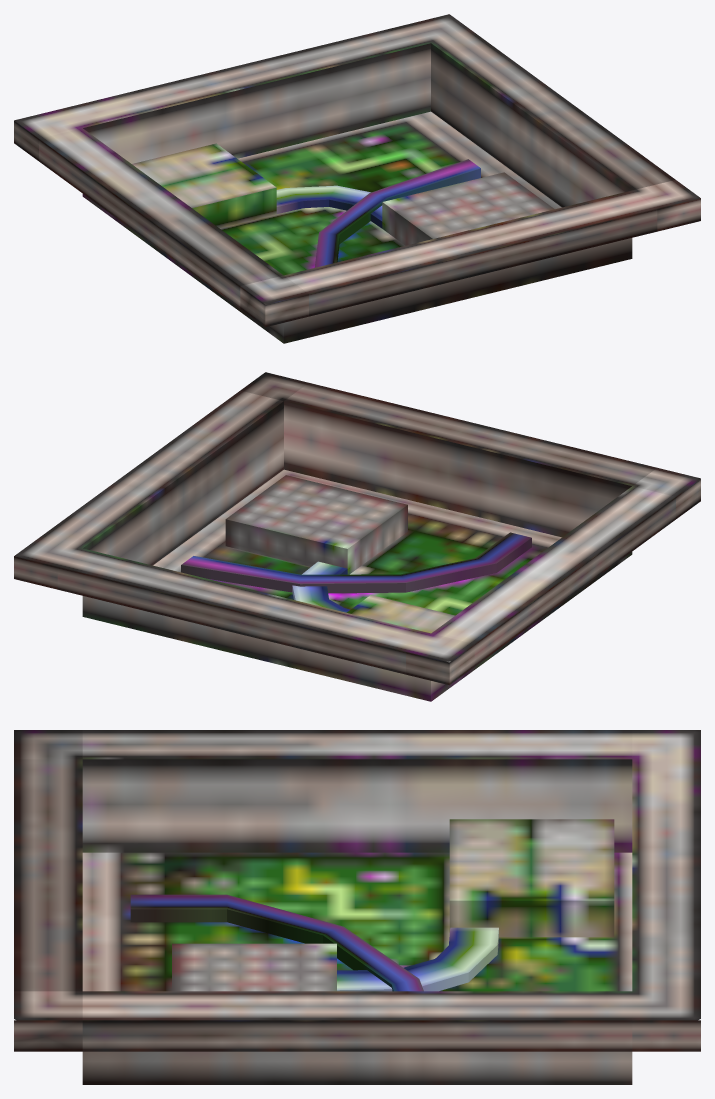
The model's file is Poly_SF_Outside_B_Machine_02.obj.
3 views of the same model, one above another, from view 1: azimuth 30°, elevation 25°; view 2: azimuth 150°, elevation 25°; view 3: azimuth 270°, elevation 25° (orthographic). The views are drawn at different scales.
Parts seen in each view (by area): view 1: Cube_Cube.001, Cube_Cube.002; view 2: Cube_Cube.001, Cube_Cube.002; view 3: Cube_Cube.001, Cube_Cube.002.
Part boxes in pixels (box(x1,y1,x2,y2)): Cube_Cube.001: box(14, 14, 700, 343); Cube_Cube.002: box(132, 143, 554, 267); Cube_Cube.001: box(14, 372, 700, 701); Cube_Cube.002: box(181, 475, 531, 633); Cube_Cube.001: box(14, 730, 700, 1084); Cube_Cube.002: box(130, 819, 614, 991).
Size of the model in its own units: 1 by 0.15 by 1.
Materials: 1 (1 with a texture image).
